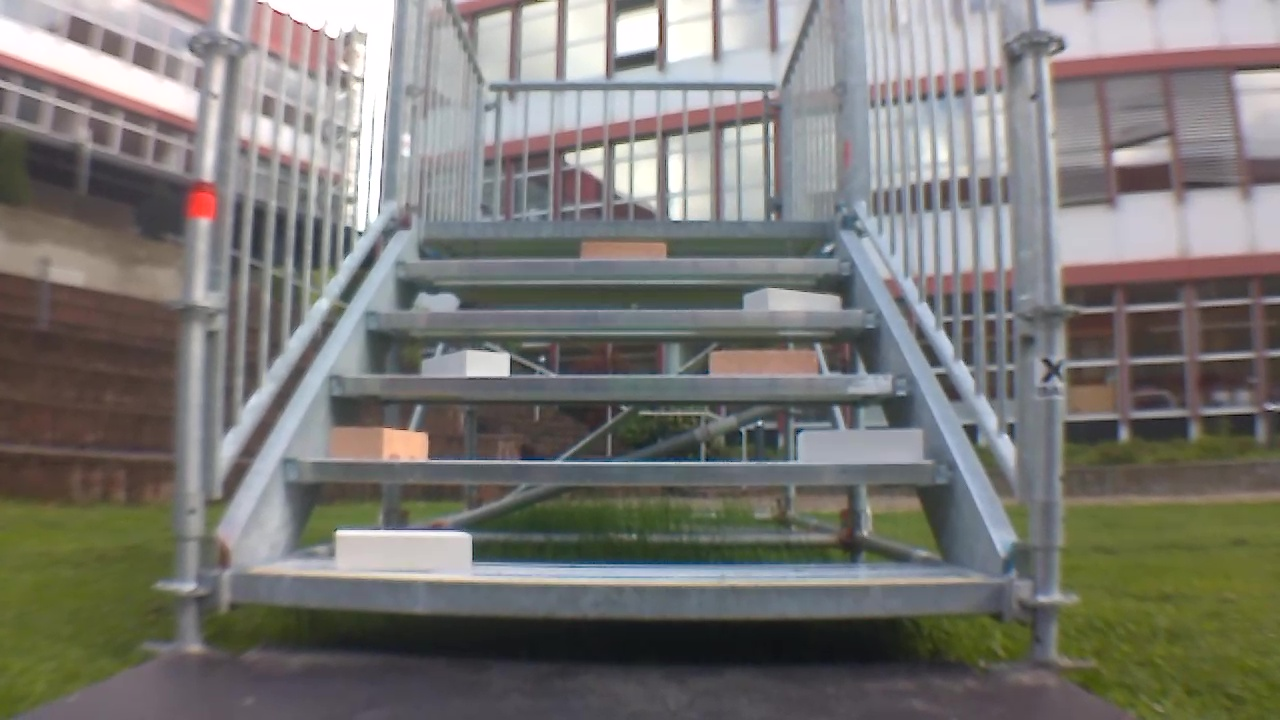brick: (798, 426, 927, 462), (336, 529, 469, 563), (323, 427, 426, 459), (708, 348, 818, 376), (418, 349, 514, 379), (750, 286, 844, 312), (575, 239, 670, 260)
edge: (232, 578, 1014, 615), (282, 460, 952, 484), (324, 373, 910, 398), (359, 309, 884, 331), (390, 256, 852, 280), (419, 222, 835, 241)
stairs: (175, 0, 1050, 667)
steps: (216, 218, 1020, 617)
